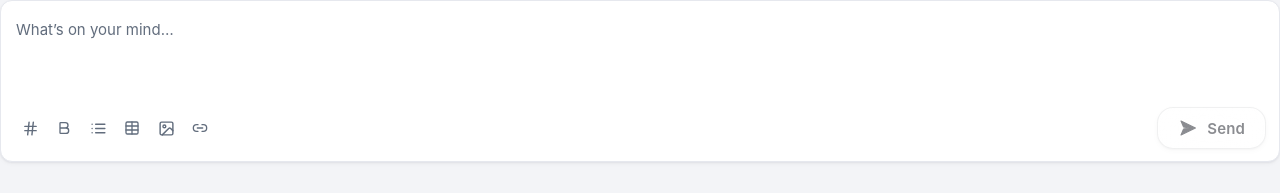
Scenario: tag completion › ranks prefix matches first and still completes a partial run on Enter
The image size is (1280, 193).
Type "#li" into the dropdown named "Memo content". click: (640,49)
box: [14,15,1266,83]
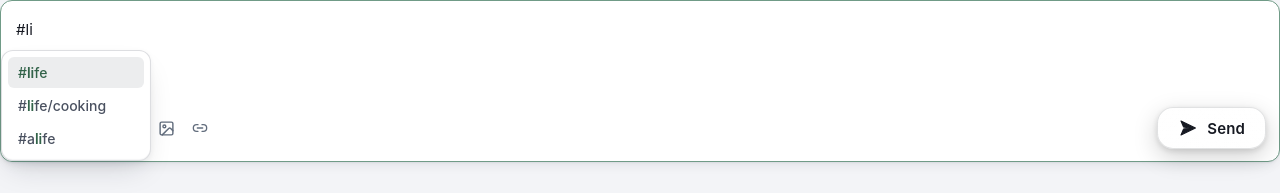
Expected: the option "# life" is shown, [8,56,144,88]
Press Enter
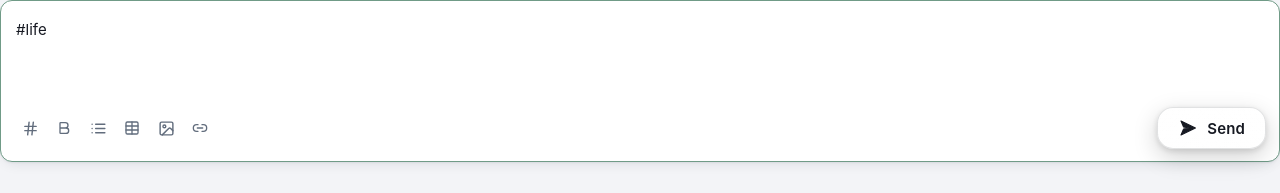
Expected: the dropdown named "Memo content" holds "#life ", [14,15,1266,83]
